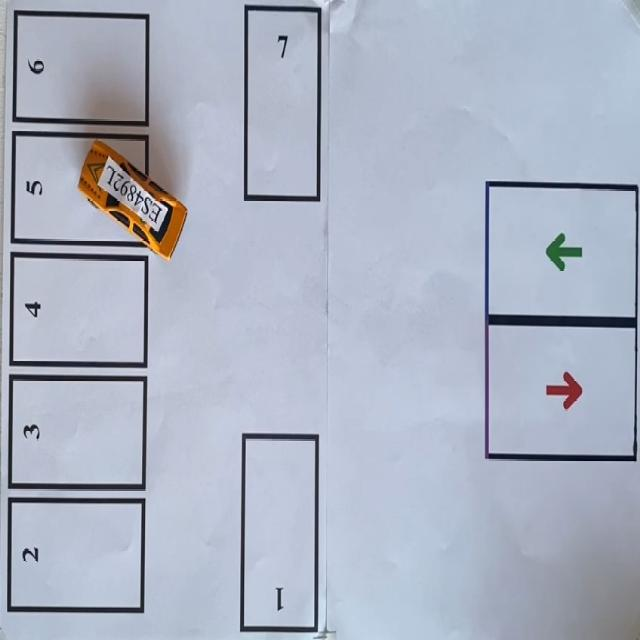car: (78, 139, 186, 259)
